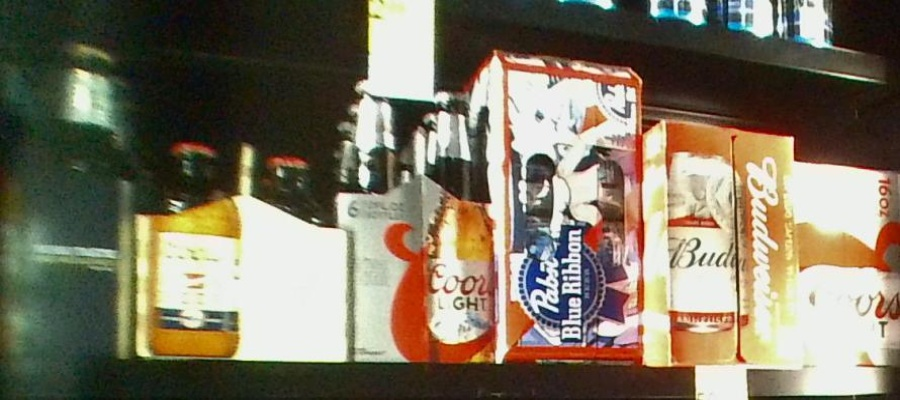bottle: (489, 51, 640, 377), (130, 139, 339, 359), (341, 80, 492, 364), (1, 42, 132, 359), (643, 115, 804, 370)
